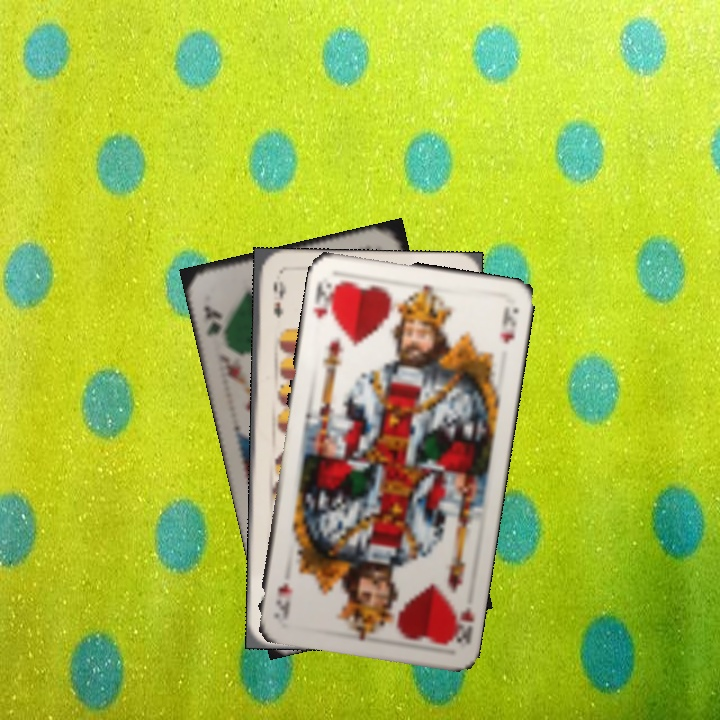E9: (269, 277, 287, 320)
GK: (199, 302, 225, 340)
HK: (445, 599, 476, 647), (309, 277, 340, 322)
